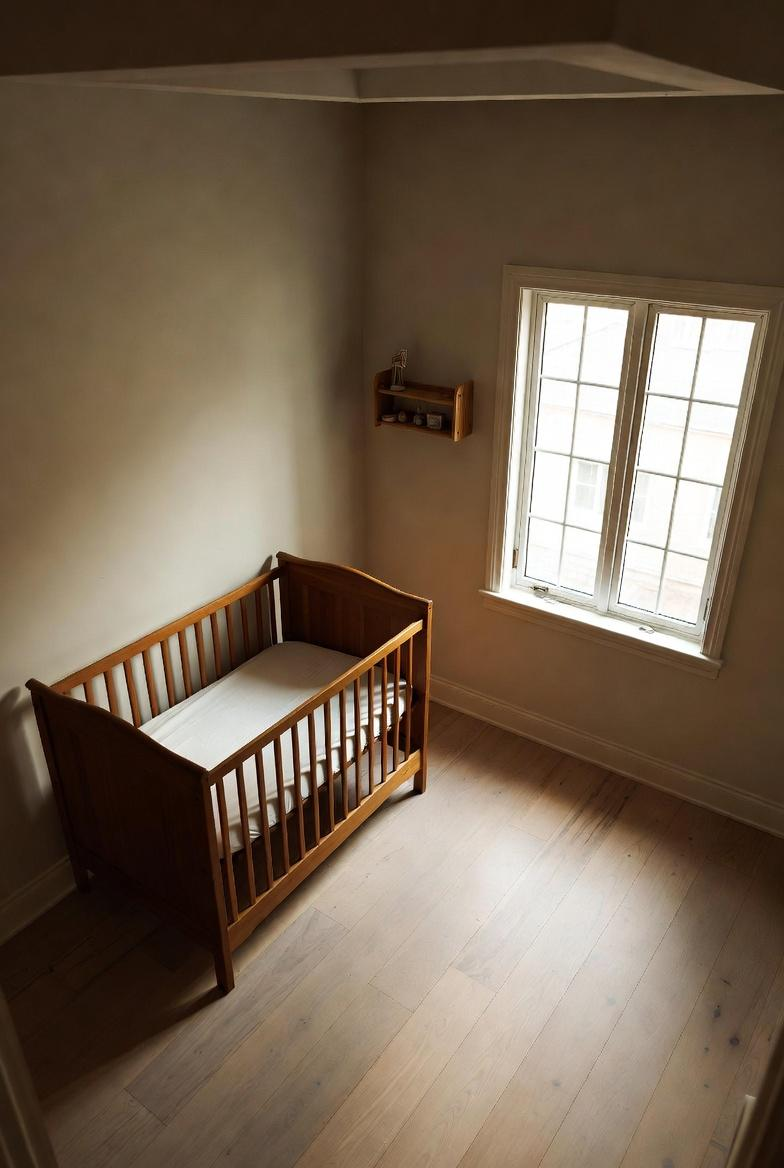crib: (20, 538, 458, 1000)
